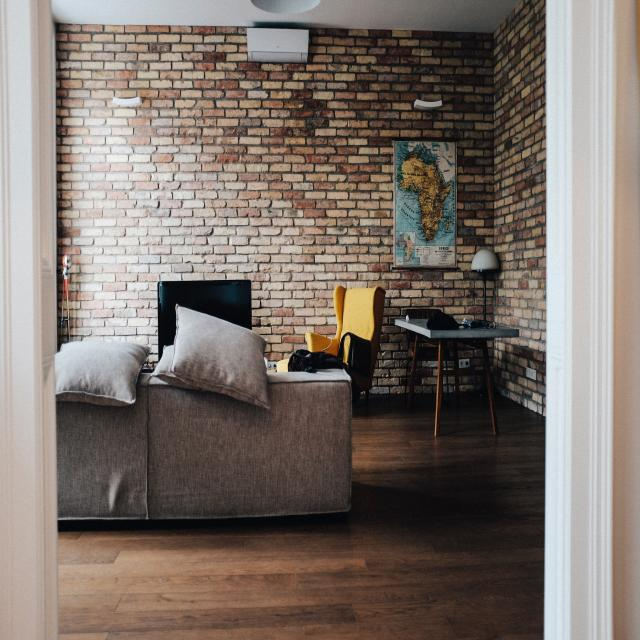floor: (57, 393, 442, 640), (441, 390, 546, 640)
